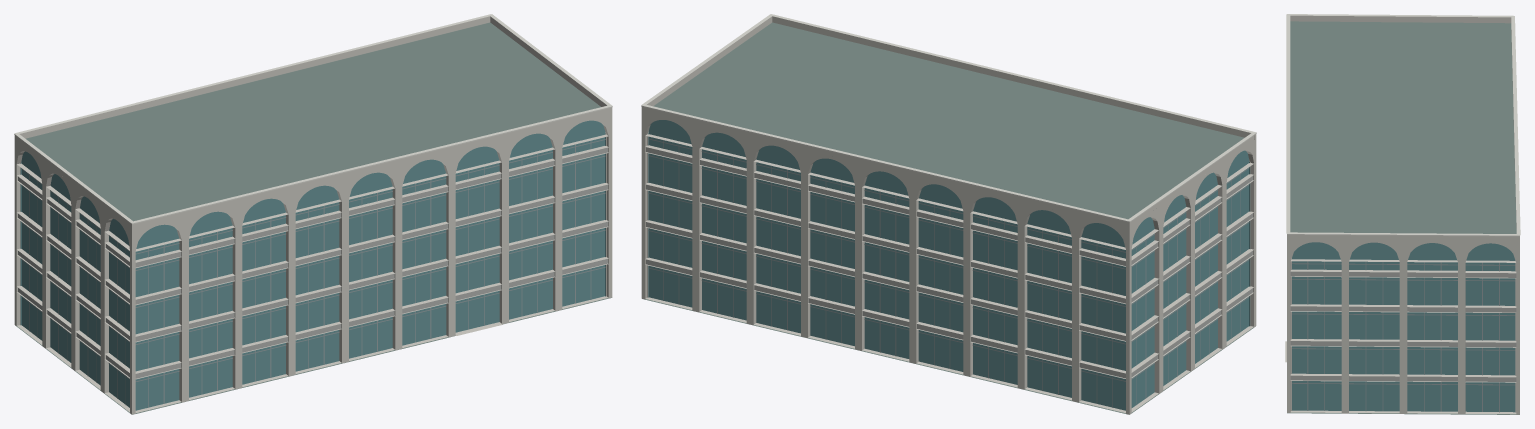
3 renders of one model, left to right at view 1: azimuth 30°, elevation 25°; view 2: azimuth 150°, elevation 25°; view 3: azimuth 270°, elevation 25°, orthographic. The views are drawn at different scales.
Parts seen in each view (by area): view 1: six__glass, six__roof, six__wall, six__wall2, six__frame, six__parapet, six__trim; view 2: six__glass, six__roof, six__wall, six__wall2, six__frame, six__parapet, six__trim; view 3: six__roof, six__glass, six__wall, six__wall2, six__trim, six__frame, six__parapet.
Boxes of the visible parts, x1,y1,x2,y2 form: six__glass: (20,120,605,410); six__roof: (15,22,611,414); six__wall: (14,112,612,414); six__wall2: (18,147,607,378); six__frame: (21,139,605,407); six__parapet: (14,16,612,229); six__trim: (14,14,612,224); six__glass: (648,120,1250,410); six__roof: (643,22,1255,414); six__wall: (641,111,1256,414); six__wall2: (646,147,1252,378); six__frame: (648,138,1249,407); six__parapet: (641,16,1256,227); six__trim: (641,14,1256,222); six__roof: (1287,21,1519,414); six__glass: (1292,242,1515,412); six__wall: (1287,239,1519,414); six__wall2: (1290,271,1516,414); six__trim: (1286,14,1520,236); six__frame: (1292,261,1515,412); six__parapet: (1287,15,1519,241).
Bounding box in the file's own units: 49.31 × 18.62 × 22.11.
